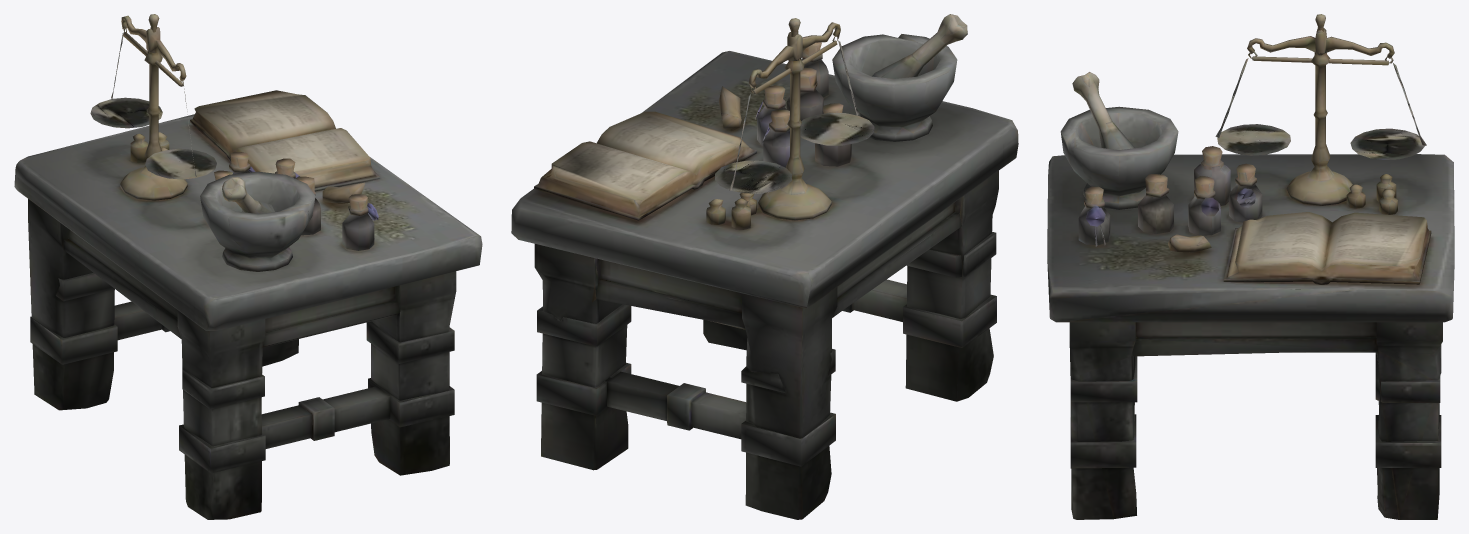
The model's file is alch_mortar_table.glb.
The picture shows the model from 3 angles, left to right: view 1: azimuth 30°, elevation 25°; view 2: azimuth 150°, elevation 25°; view 3: azimuth 270°, elevation 25°; orthographic projection. The views are drawn at different scales.
Parts seen in each view (by area): view 1: tripo_node_89bc6743-deef-4f41-a35b-29078bea5899; view 2: tripo_node_89bc6743-deef-4f41-a35b-29078bea5899; view 3: tripo_node_89bc6743-deef-4f41-a35b-29078bea5899.
Boxes of the visible parts, x1,y1,x2,y2 form: tripo_node_89bc6743-deef-4f41-a35b-29078bea5899: (14,14,482,519); tripo_node_89bc6743-deef-4f41-a35b-29078bea5899: (511,14,1018,519); tripo_node_89bc6743-deef-4f41-a35b-29078bea5899: (1047,14,1454,519).
Bounding box in the file's own units: 0.7071 × 0.998 × 0.8847.
Materials: 1 (1 with a texture image).
